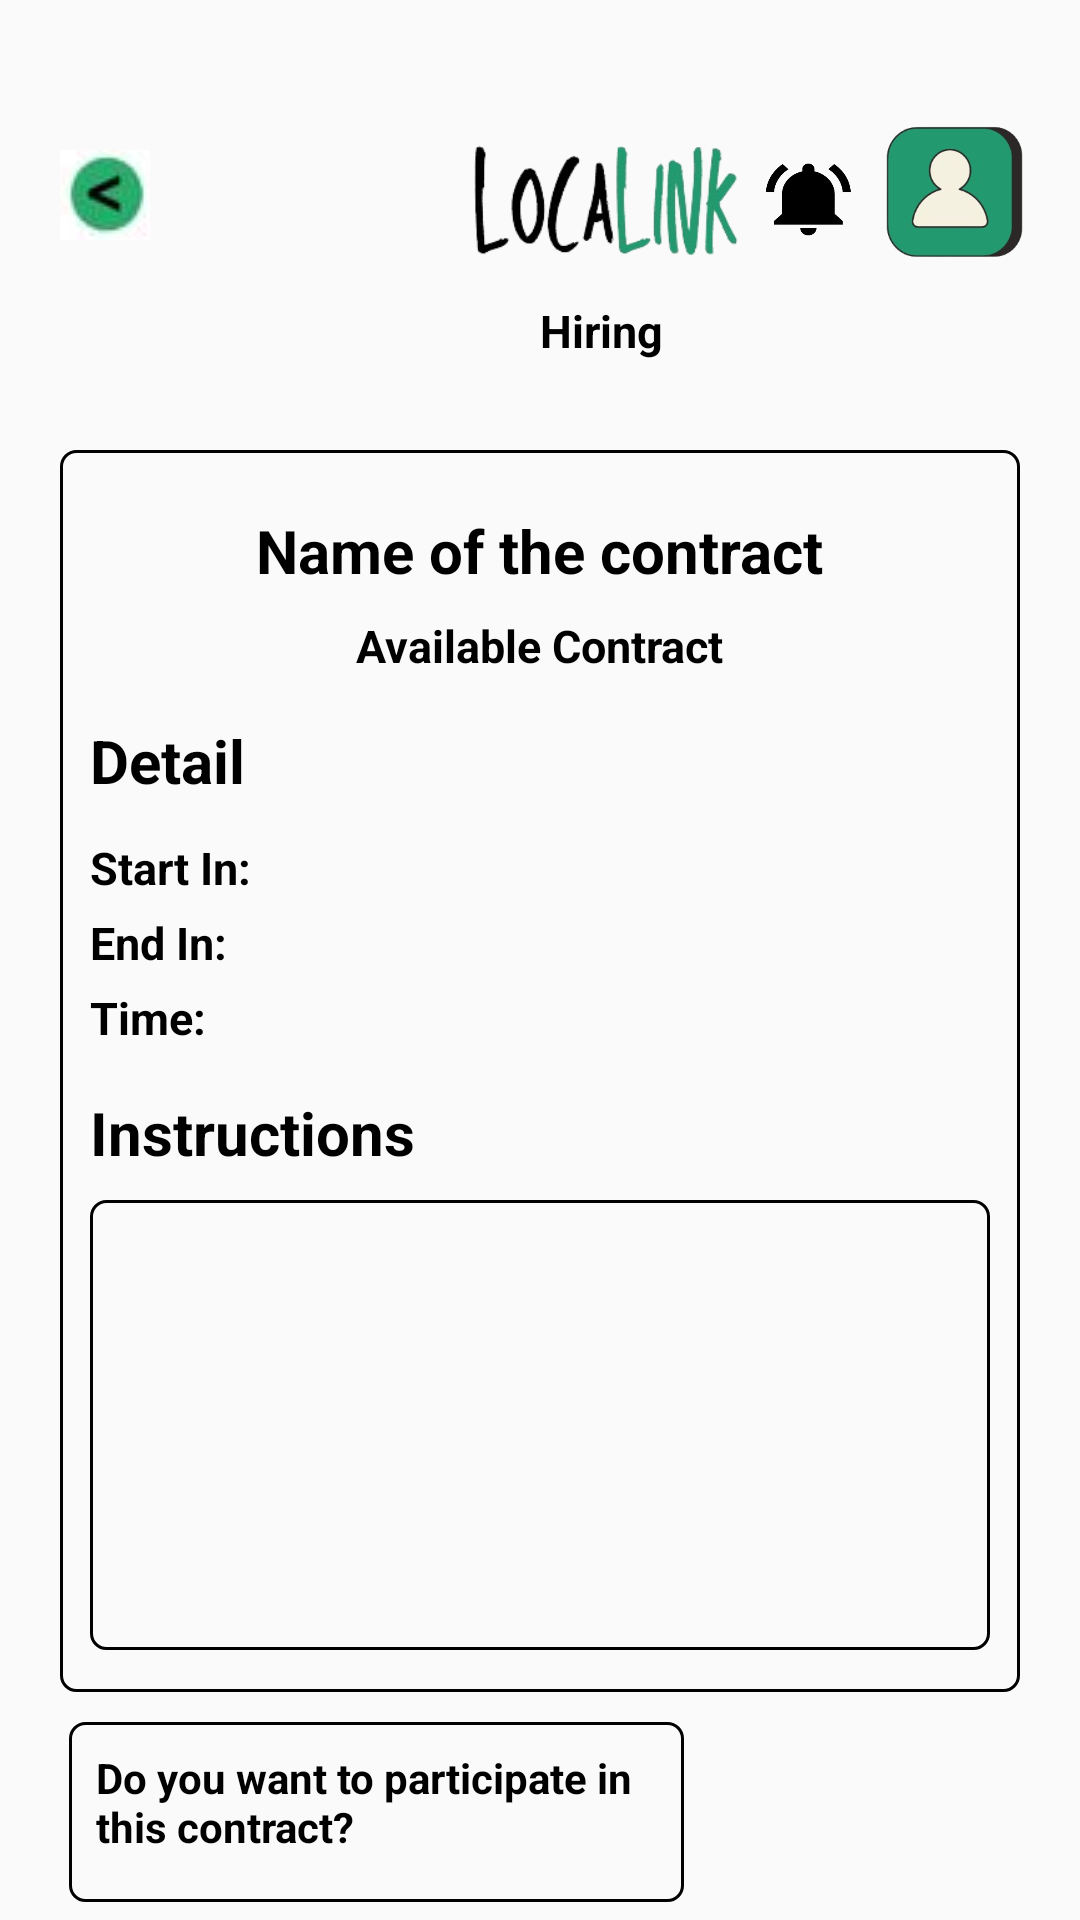

Point at icon controls on the screen. Image size 1080 × 1920, points as (x,y).
backbtn: (106,194)
